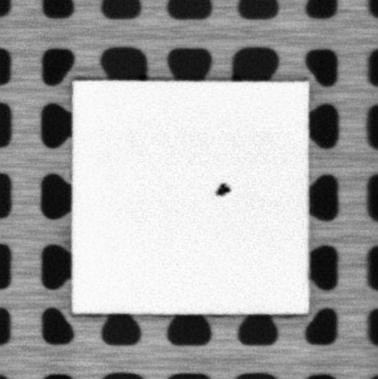DIE_INK: (215, 182, 232, 198)
